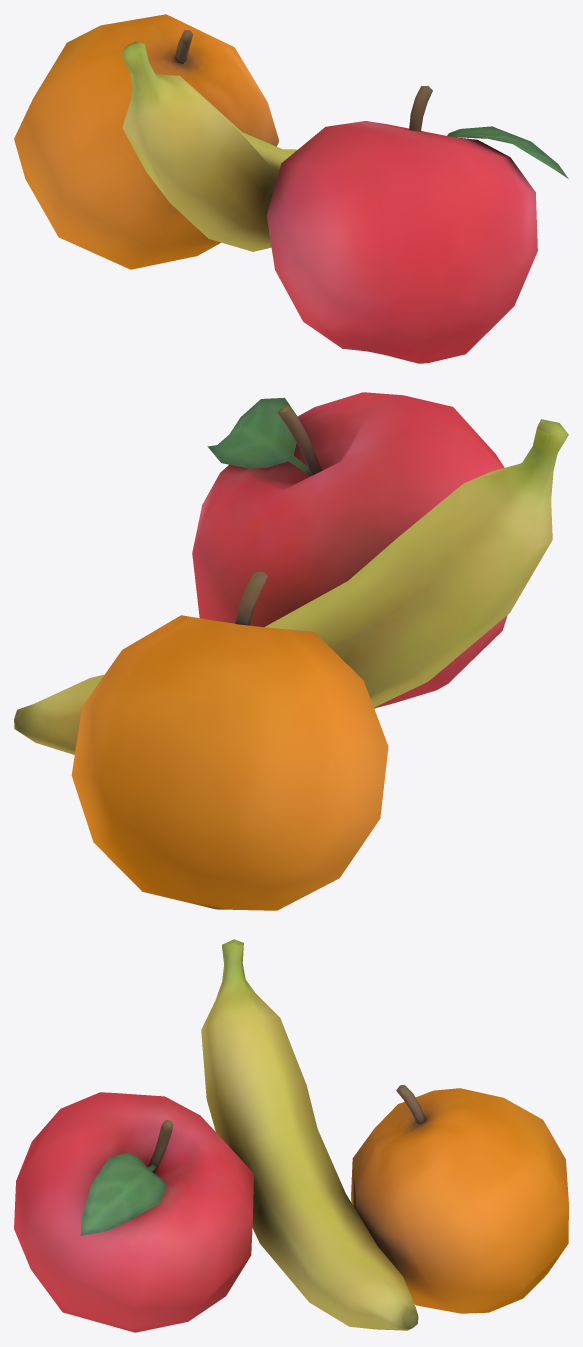
File: Fruit.glb
The picture shows the model from 3 angles, top to bottom: view 1: azimuth 30°, elevation 25°; view 2: azimuth 150°, elevation 25°; view 3: azimuth 270°, elevation 25°; orthographic projection. The views are drawn at different scales.
Parts seen in each view (by area): view 1: low; view 2: low; view 3: low.
Part boxes in pixels (x1,y1,x2,y2): low: (14, 14, 568, 363); low: (14, 392, 568, 910); low: (14, 939, 568, 1332).
Size of the model in its own units: 1.77 by 1.58 by 2.62.
1 material, 1 textured.
